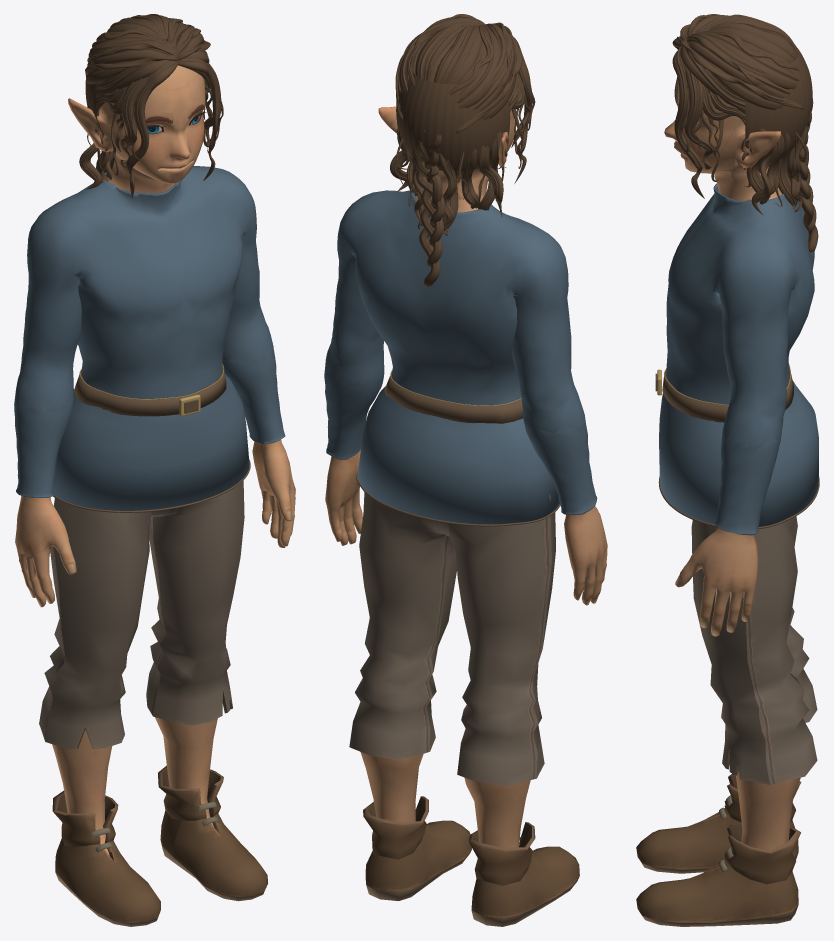
File: girl-sporty.glb
The picture shows the model from 3 angles, left to right: view 1: azimuth 30°, elevation 25°; view 2: azimuth 150°, elevation 25°; view 3: azimuth 270°, elevation 25°; orthographic projection.
Visible parts, largest first — view 1: sportive / girl / gentle / starter / fitted long-sleeve tuni, sportive / girl / gentle / base / girl • Pant_043__Mt_Lower_, sportive / girl / gentle / female / girl • continuous skin, sportive / girl / gentle / starter / continuous waist-fitted, sportive / girl / gentle / long / girl / long / girl / suppl, sportive / girl / gentle / starter / flat fitted leather wai; view 2: sportive / girl / gentle / base / girl • Pant_043__Mt_Lower_, sportive / girl / gentle / starter / fitted long-sleeve tuni, sportive / girl / gentle / starter / continuous waist-fitted, sportive / girl / gentle / long / girl / long / girl / suppl, sportive / girl / gentle / female / girl • continuous skin, sportive / girl / filled posterior hair, sportive / girl / gentle / starter / flat fitted leather wai; view 3: sportive / girl / gentle / base / girl • Pant_043__Mt_Lower_, sportive / girl / gentle / starter / fitted long-sleeve tuni, sportive / girl / gentle / long / girl / long / girl / suppl, sportive / girl / gentle / female / girl • continuous skin, sportive / girl / gentle / starter / continuous waist-fitted, sportive / girl / filled posterior hair, sportive / girl / gentle / starter / flat fitted leather wai.
Boxes of the visible parts, left/top/right/bottom form: sportive / girl / gentle / starter / fitted long-sleeve tuni: left=14, top=166, right=285, bottom=497; sportive / girl / gentle / base / girl • Pant_043__Mt_Lower_: left=39, top=477, right=267, bottom=926; sportive / girl / gentle / female / girl • continuous skin: left=15, top=65, right=295, bottom=855; sportive / girl / gentle / starter / continuous waist-fitted: left=53, top=374, right=249, bottom=510; sportive / girl / gentle / long / girl / long / girl / suppl: left=79, top=14, right=223, bottom=198; sportive / girl / gentle / starter / flat fitted leather wai: left=74, top=365, right=226, bottom=416; sportive / girl / gentle / base / girl • Pant_043__Mt_Lower_: left=349, top=492, right=579, bottom=926; sportive / girl / gentle / starter / fitted long-sleeve tuni: left=324, top=190, right=597, bottom=514; sportive / girl / gentle / starter / continuous waist-fitted: left=357, top=386, right=559, bottom=524; sportive / girl / gentle / long / girl / long / girl / suppl: left=390, top=14, right=535, bottom=287; sportive / girl / gentle / female / girl • continuous skin: left=325, top=106, right=607, bottom=847; sportive / girl / filled posterior hair: left=396, top=73, right=510, bottom=171; sportive / girl / gentle / starter / flat fitted leather wai: left=384, top=371, right=522, bottom=423; sportive / girl / gentle / base / girl • Pant_043__Mt_Lower_: left=636, top=516, right=817, bottom=926; sportive / girl / gentle / starter / fitted long-sleeve tuni: left=666, top=183, right=814, bottom=535; sportive / girl / gentle / long / girl / long / girl / suppl: left=672, top=14, right=818, bottom=252; sportive / girl / gentle / female / girl • continuous skin: left=664, top=84, right=800, bottom=850; sportive / girl / gentle / starter / continuous waist-fitted: left=659, top=380, right=818, bottom=526; sportive / girl / filled posterior hair: left=745, top=47, right=812, bottom=158; sportive / girl / gentle / starter / flat fitted leather wai: left=662, top=365, right=793, bottom=422.
Bounding box in the file's own units: 0.5778 × 1.77 × 0.3405.
17 materials, 8 textured.
